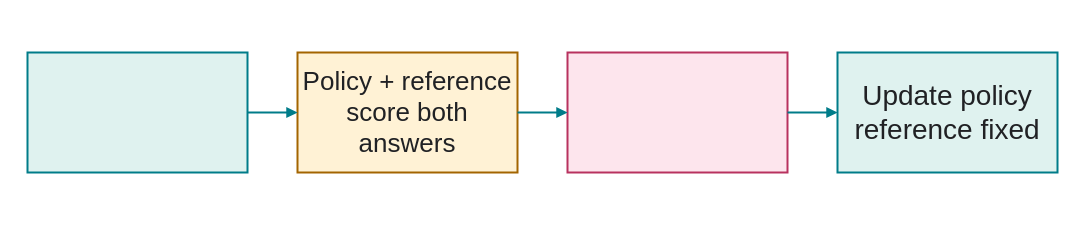
The diagram is 1084 pixels wide and 234 high, and some of its shapes have lost their labels. The shapes that lost their labels are listed below. From the top down, each one's centre as x and y in pixels, then its label:
At (137,112): "Saved pairs chosen / rejected".
At (677,112): "Preference loss compare log ratios".
